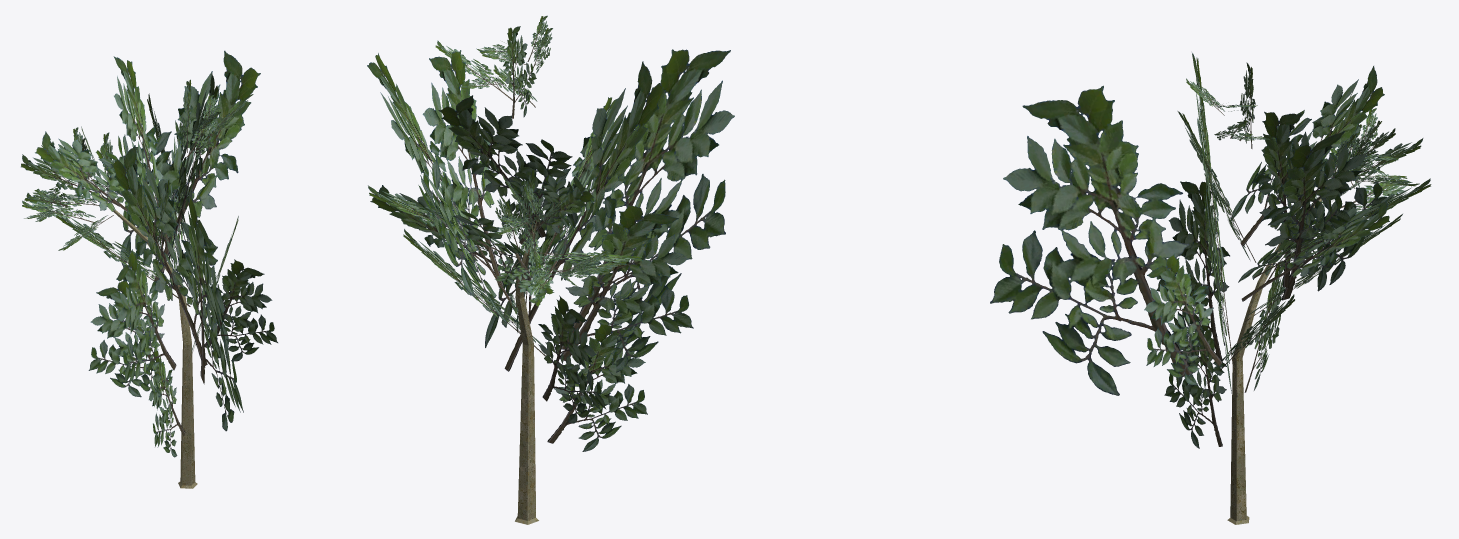
The model's file is elmwee_hi.obj.
The picture shows the model from 3 angles, left to right: view 1: azimuth 30°, elevation 25°; view 2: azimuth 150°, elevation 25°; view 3: azimuth 270°, elevation 25°; orthographic projection. The views are drawn at different scales.
Visible parts, largest first — view 1: Elmwee_hi; view 2: Elmwee_hi; view 3: Elmwee_hi.
Part boxes in pixels (bbox=[...]): Elmwee_hi: bbox=[21, 50, 277, 488]; Elmwee_hi: bbox=[367, 15, 734, 524]; Elmwee_hi: bbox=[990, 53, 1431, 524].
Size of the model in its own units: 10.58 by 15.92 by 17.57.
